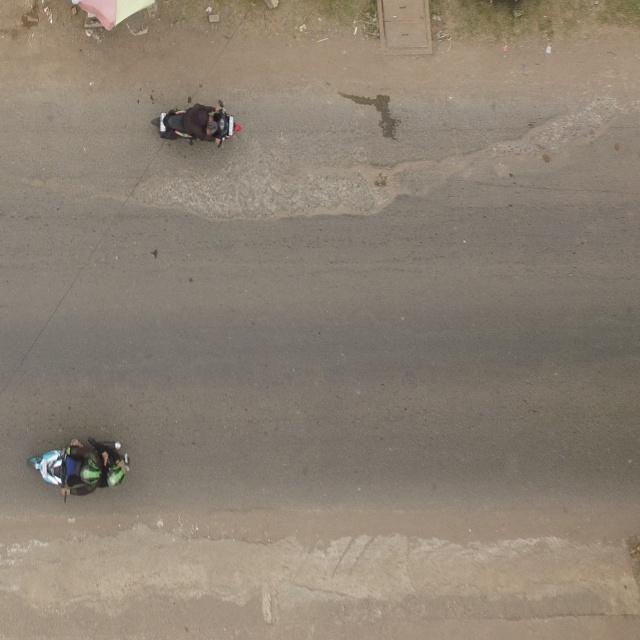GRIETA: (0, 88, 635, 228), (0, 522, 639, 615)
